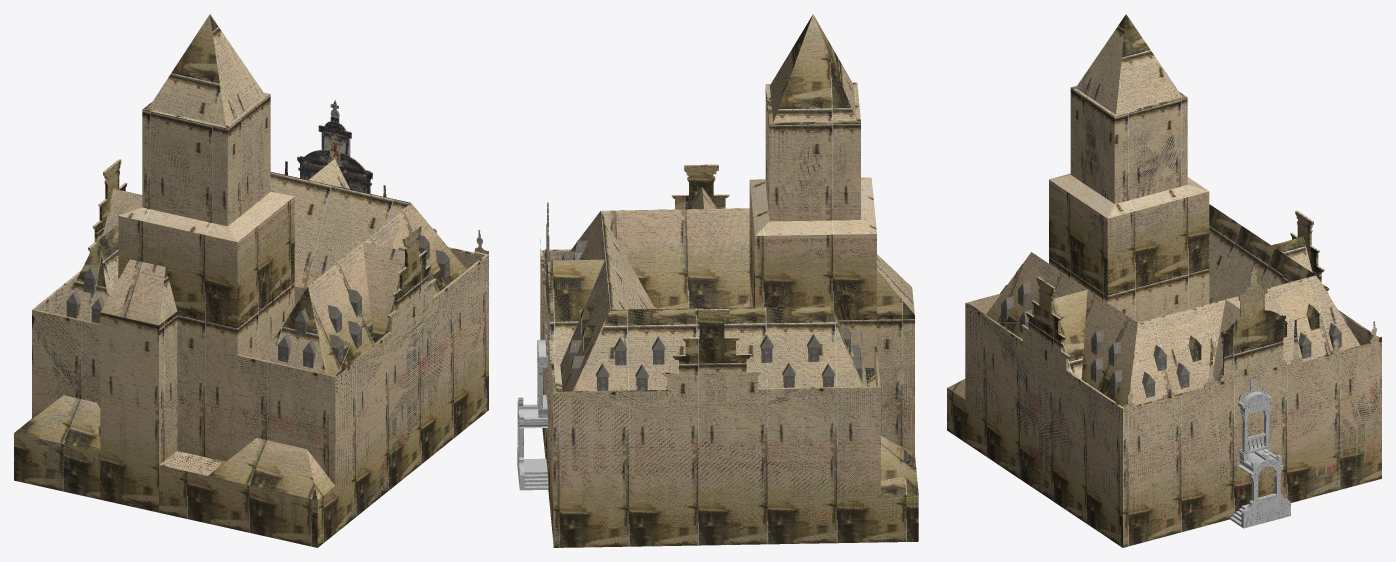
File: Stadhuis.fbx
The picture shows the model from 3 angles, left to right: view 1: azimuth 30°, elevation 25°; view 2: azimuth 150°, elevation 25°; view 3: azimuth 270°, elevation 25°; orthographic projection. The views are drawn at different scales.
Visible parts, largest first — view 1: Stadhuis_van_Delft1; view 2: Stadhuis_van_Delft1, Group1; view 3: Stadhuis_van_Delft1, Group1.
Boxes of the visible parts, x1,y1,x2,y2 form: Stadhuis_van_Delft1: (14,14,488,547); Stadhuis_van_Delft1: (540,14,918,547); Group1: (517,324,548,490); Stadhuis_van_Delft1: (947,14,1381,547); Group1: (1230,377,1290,528).
Size of the model in its own units: 38.93 by 40.18 by 38.31.
